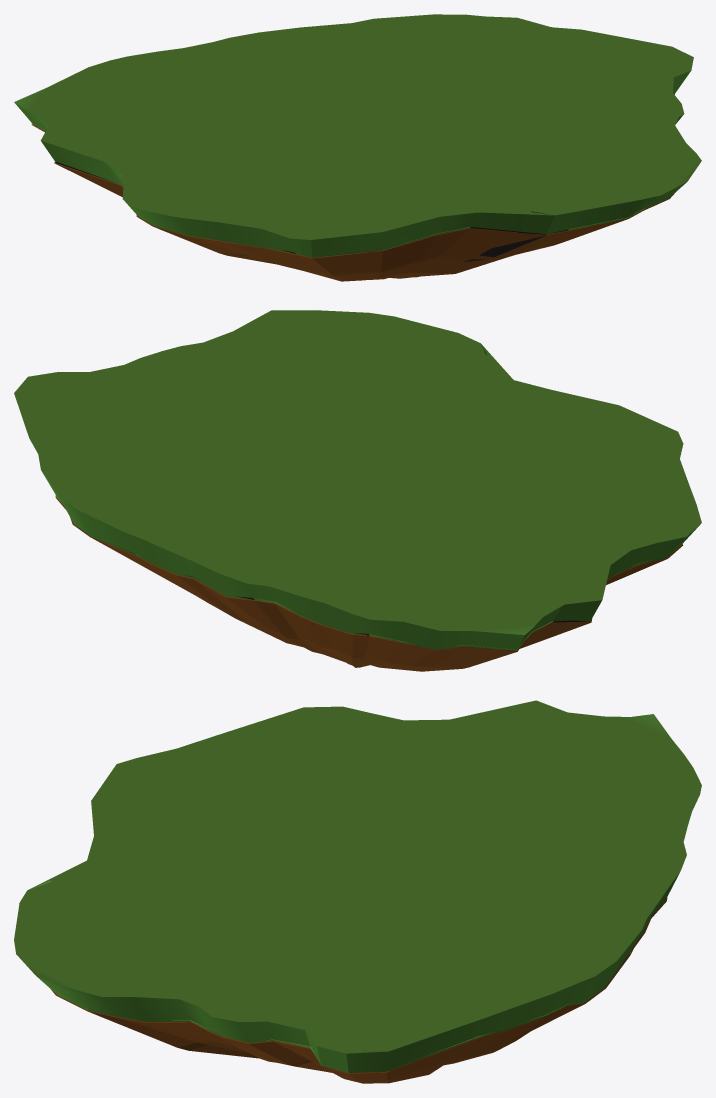
File: island.glb
The picture shows the model from 3 angles, top to bottom: view 1: azimuth 30°, elevation 25°; view 2: azimuth 150°, elevation 25°; view 3: azimuth 270°, elevation 25°; orthographic projection. The views are drawn at different scales.
Parts seen in each view (by area): view 1: Vert.001, Vert; view 2: Vert.001, Vert; view 3: Vert.001, Vert.
Boxes of the visible parts, left/top/right/bottom form: Vert.001: left=14, top=14, right=701, bottom=257; Vert: left=31, top=94, right=676, bottom=281; Vert.001: left=14, top=310, right=701, bottom=650; Vert: left=55, top=496, right=683, bottom=671; Vert.001: left=14, top=700, right=701, bottom=1072; Vert: left=51, top=897, right=667, bottom=1083.
Bounding box in the file's own units: 8.21 × 2.18 × 6.8.
Materials: 2 (2 with a texture image).
